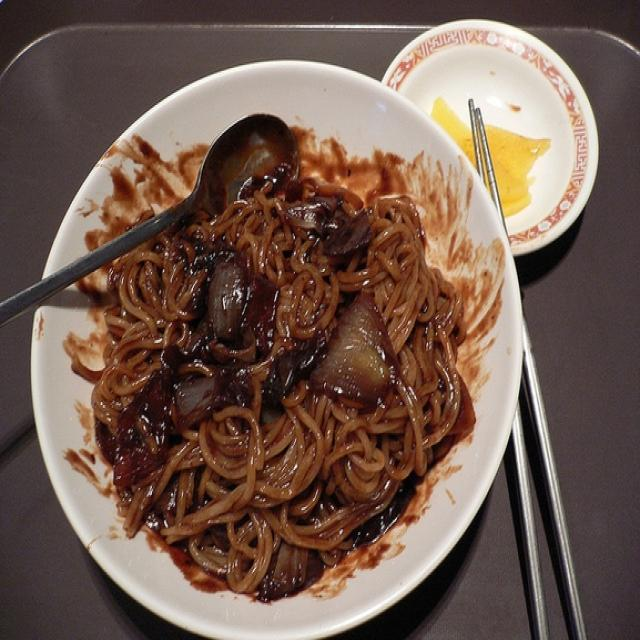面条主食: (40, 71, 509, 599)
